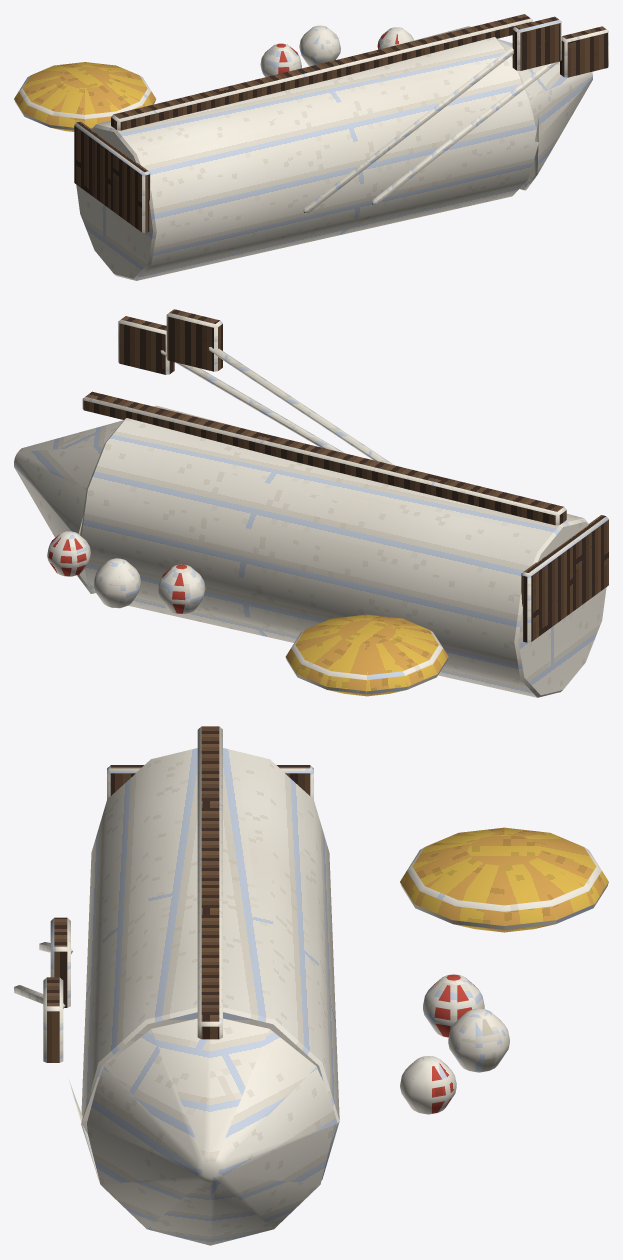
Rendered from spec_rowboat_0.glb.
3 views of the same model, one above another, from view 1: azimuth 30°, elevation 25°; view 2: azimuth 150°, elevation 25°; view 3: azimuth 270°, elevation 25° (orthographic). The views are drawn at different scales.
Parts seen in each view (by area): view 1: spec_rowboat_0; view 2: spec_rowboat_0; view 3: spec_rowboat_0.
Boxes of the visible parts, x1,y1,x2,y2 form: spec_rowboat_0: (14, 14, 608, 280); spec_rowboat_0: (14, 309, 608, 697); spec_rowboat_0: (14, 726, 608, 1245).
Size of the model in its own units: 3.23 by 1.32 by 2.35.
Materials: 5 (5 with a texture image).
